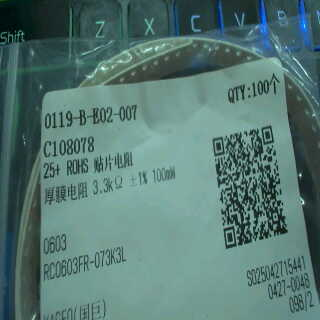3.3kO: (89, 172, 123, 197)
